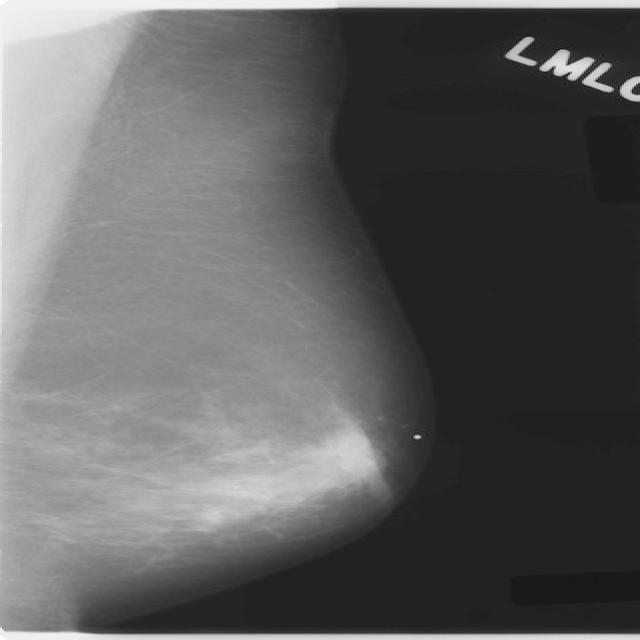tumour: (321, 424, 383, 479)
